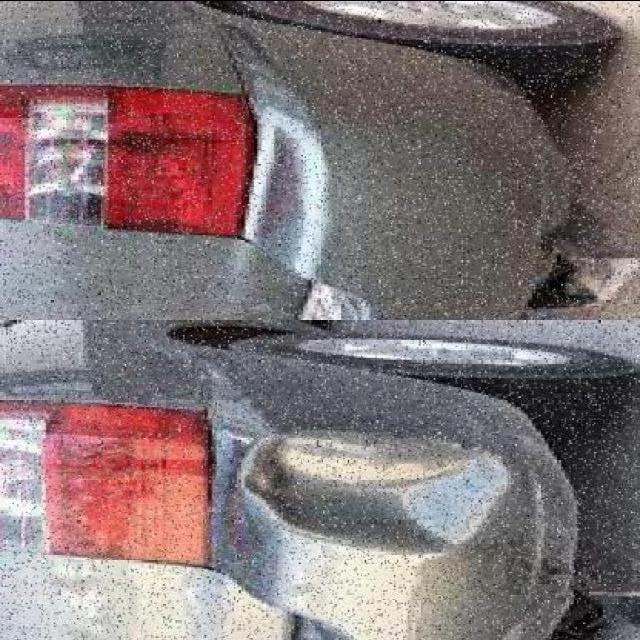rear-bumper-dent: (183, 354, 520, 584)
